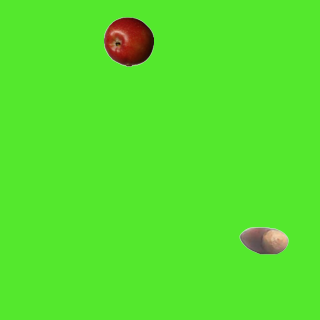Apple Braeburn: (103, 16, 153, 66)
Hazelnut: (238, 215, 288, 265)
